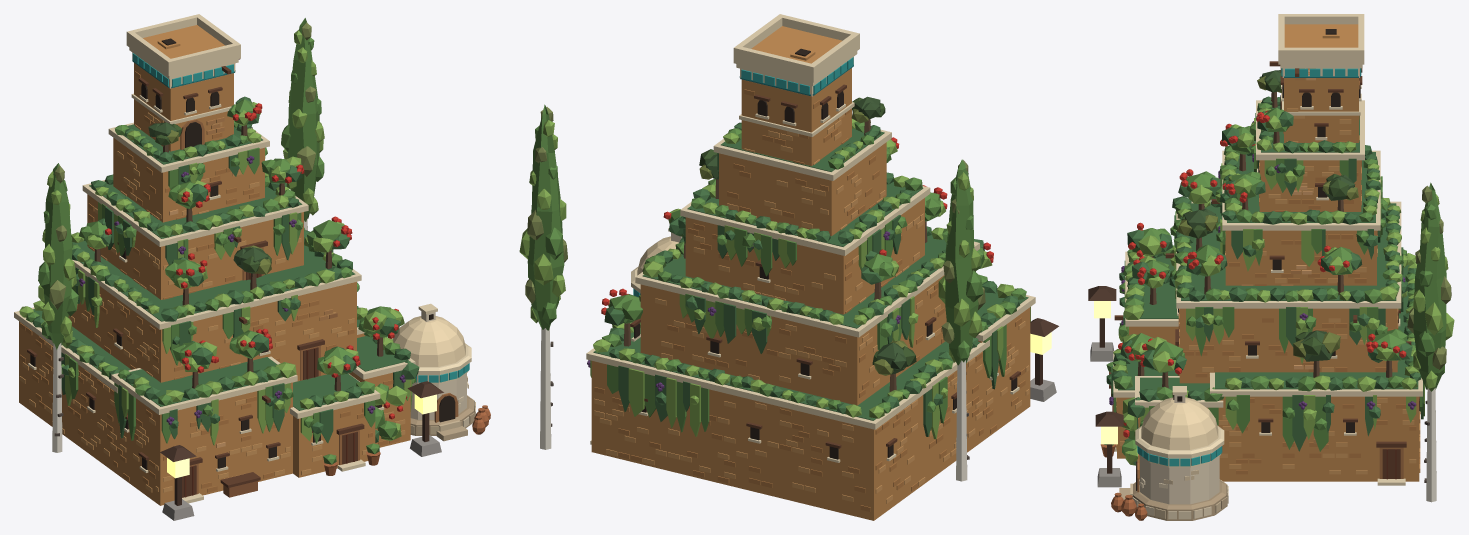
Rendered from oasis_citadel.glb.
3 renders of one model, left to right at view 1: azimuth 30°, elevation 25°; view 2: azimuth 150°, elevation 25°; view 3: azimuth 270°, elevation 25°, orthographic. The views are drawn at different scales.
Parts seen in each view (by area): view 1: oasis_citadel_OC_Mud, oasis_citadel_OC_LeafFresh, oasis_citadel_OC_LeafFreshDark, oasis_citadel_OC_Ledge, oasis_citadel_OC_LeafFreshLight, oasis_citadel_OC_MudHi, oasis_citadel_OC_MudLo, oasis_citadel_OC_Cream, oasis_citadel_OC_Pomegranate, oasis_citadel_OC_Wood, oasis_citadel_OC_Dark, oasis_citadel_OC_OliveLight (+14 smaller); view 2: oasis_citadel_OC_Mud, oasis_citadel_OC_LeafFresh, oasis_citadel_OC_Ledge, oasis_citadel_OC_LeafFreshDark, oasis_citadel_OC_LeafFreshLight, oasis_citadel_OC_MudHi, oasis_citadel_OC_MudLo, oasis_citadel_OC_PoplarBark, oasis_citadel_OC_Dark, oasis_citadel_OC_OliveLight, oasis_citadel_OC_Leaf, oasis_citadel_OC_Turquoise (+5 smaller); view 3: oasis_citadel_OC_Mud, oasis_citadel_OC_LeafFreshDark, oasis_citadel_OC_LeafFresh, oasis_citadel_OC_LeafFreshLight, oasis_citadel_OC_Ledge, oasis_citadel_OC_Cream, oasis_citadel_OC_MudLo, oasis_citadel_OC_Plaster, oasis_citadel_OC_MudHi, oasis_citadel_OC_Pomegranate, oasis_citadel_OC_Turquoise, oasis_citadel_OC_Branch (+14 smaller).
Boxes of the visible parts, x1,y1,x2,y2 form: oasis_citadel_OC_Mud: (19, 25, 410, 505); oasis_citadel_OC_LeafFresh: (26, 18, 416, 464); oasis_citadel_OC_LeafFreshDark: (32, 96, 419, 442); oasis_citadel_OC_Ledge: (14, 14, 471, 503); oasis_citadel_OC_LeafFreshLight: (19, 29, 412, 445); oasis_citadel_OC_MudHi: (19, 112, 405, 492); oasis_citadel_OC_MudLo: (19, 71, 399, 492); oasis_citadel_OC_Cream: (393, 316, 465, 366); oasis_citadel_OC_Pomegranate: (105, 103, 407, 419); oasis_citadel_OC_Wood: (27, 59, 364, 487); oasis_citadel_OC_Dark: (30, 38, 433, 469); oasis_citadel_OC_OliveLight: (49, 22, 316, 309); oasis_citadel_OC_Mud: (591, 26, 1030, 520); oasis_citadel_OC_LeafFresh: (527, 104, 1030, 432); oasis_citadel_OC_Ledge: (586, 14, 1035, 462); oasis_citadel_OC_LeafFreshDark: (593, 122, 1028, 436); oasis_citadel_OC_LeafFreshLight: (519, 119, 1014, 439); oasis_citadel_OC_MudHi: (594, 113, 1029, 503); oasis_citadel_OC_MudLo: (594, 89, 1025, 512); oasis_citadel_OC_PoplarBark: (540, 327, 967, 481); oasis_citadel_OC_Dark: (634, 48, 1017, 459); oasis_citadel_OC_OliveLight: (525, 107, 985, 343); oasis_citadel_OC_Leaf: (704, 96, 907, 374); oasis_citadel_OC_Turquoise: (633, 57, 853, 297); oasis_citadel_OC_Mud: (1117, 24, 1419, 481); oasis_citadel_OC_LeafFreshDark: (1106, 96, 1423, 465); oasis_citadel_OC_LeafFresh: (1104, 103, 1446, 455); oasis_citadel_OC_LeafFreshLight: (1112, 107, 1454, 465); oasis_citadel_OC_Ledge: (1113, 14, 1422, 485); oasis_citadel_OC_Cream: (1141, 397, 1218, 449); oasis_citadel_OC_MudLo: (1116, 80, 1420, 474); oasis_citadel_OC_Plaster: (1140, 395, 1219, 504); oasis_citadel_OC_MudHi: (1116, 108, 1420, 474); oasis_citadel_OC_Pomegranate: (1118, 110, 1406, 437); oasis_citadel_OC_Turquoise: (1137, 68, 1361, 466); oasis_citadel_OC_Branch: (1137, 92, 1392, 387).
Bounding box in the file's own units: 3.67 × 3.47 × 3.02.
